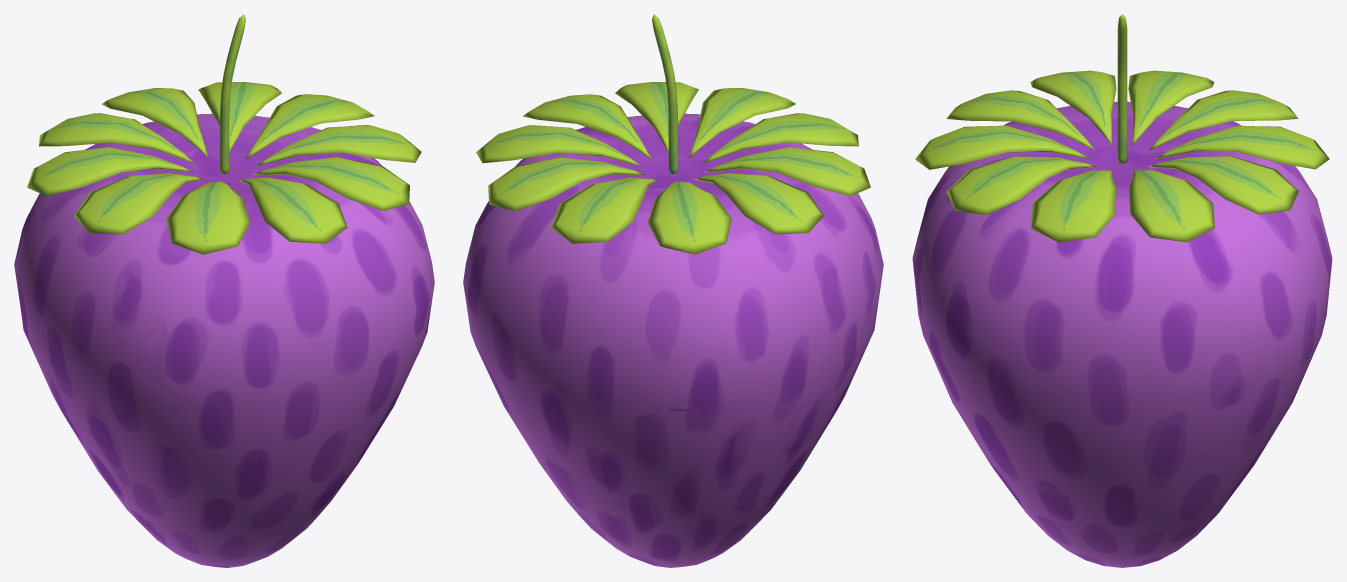
File: StrawberryPurple.glb
3 renders of one model, left to right at view 1: azimuth 30°, elevation 25°; view 2: azimuth 150°, elevation 25°; view 3: azimuth 270°, elevation 25°, orthographic. The views are drawn at different scales.
Parts seen in each view (by area): view 1: Cube, Plane, Cube.001; view 2: Cube, Plane, Cube.001; view 3: Cube, Plane, Cube.001.
Boxes of the visible parts, <box> form: Cube: <box>14,113,434,567</box>; Plane: <box>27,82,421,254</box>; Cube.001: <box>219,14,245,174</box>; Cube: <box>463,113,883,567</box>; Plane: <box>476,82,870,254</box>; Cube.001: <box>652,14,678,174</box>; Cube: <box>912,101,1332,567</box>; Plane: <box>915,70,1329,242</box>; Cube.001: <box>1117,14,1127,163</box>.
Bounding box in the file's own units: 2.38 × 3.48 × 2.38.
Materials: 1 (1 with a texture image).
